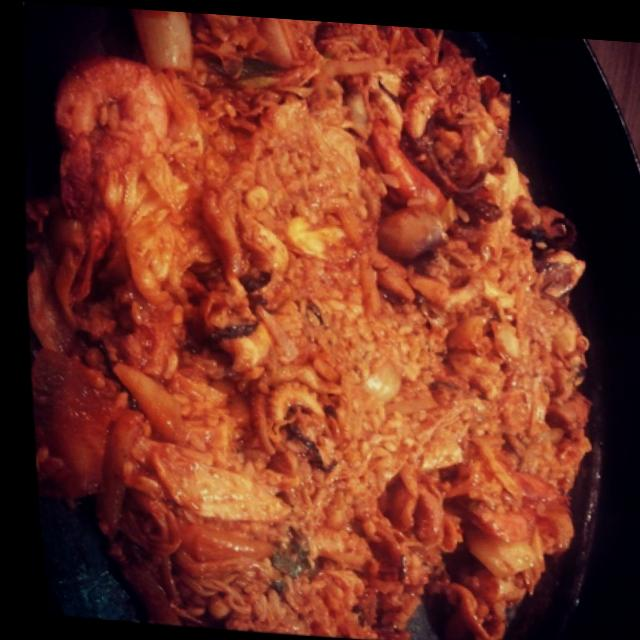鸡肉料理 含炸鸡: (20, 1, 630, 640)
